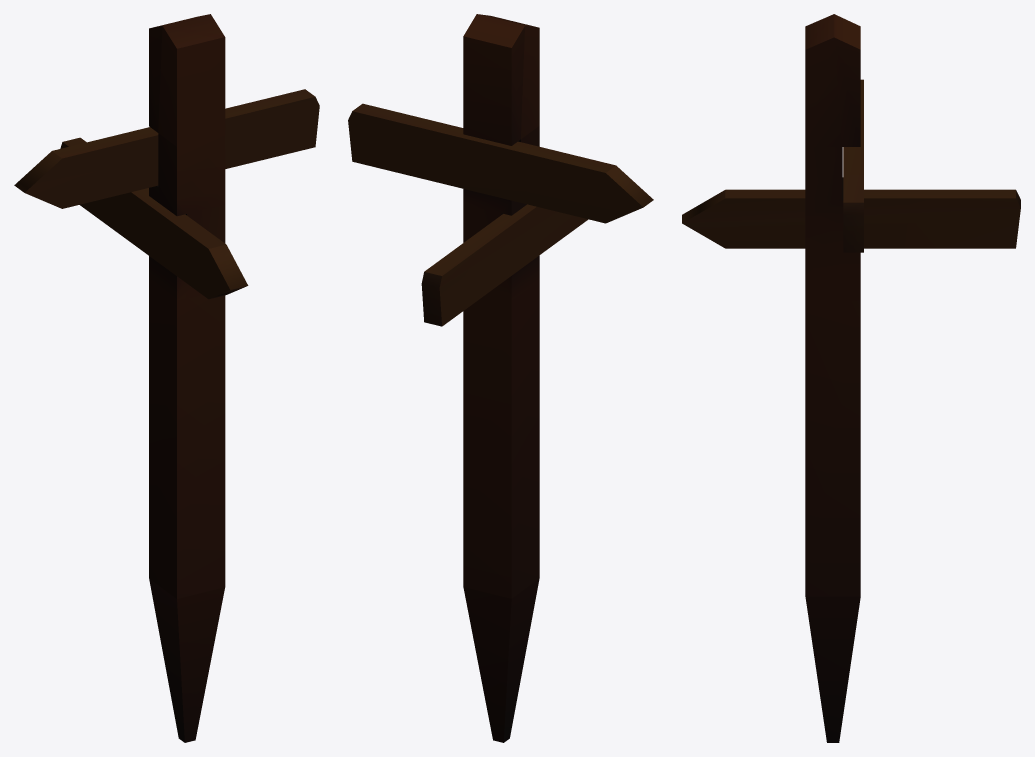
Rendered from WoodDirectionSign_Double.fbx.
3 renders of one model, left to right at view 1: azimuth 30°, elevation 25°; view 2: azimuth 150°, elevation 25°; view 3: azimuth 270°, elevation 25°, orthographic.
Parts seen in each view (by area): view 1: WoodDirectionSign_Double; view 2: WoodDirectionSign_Double; view 3: WoodDirectionSign_Double.
Part boxes in pixels (box(x1,y1,x2,y2)): WoodDirectionSign_Double: box(14, 14, 319, 742); WoodDirectionSign_Double: box(348, 14, 653, 742); WoodDirectionSign_Double: box(682, 14, 1020, 742).
Size of the model in its own units: 139 by 323 by 139.
